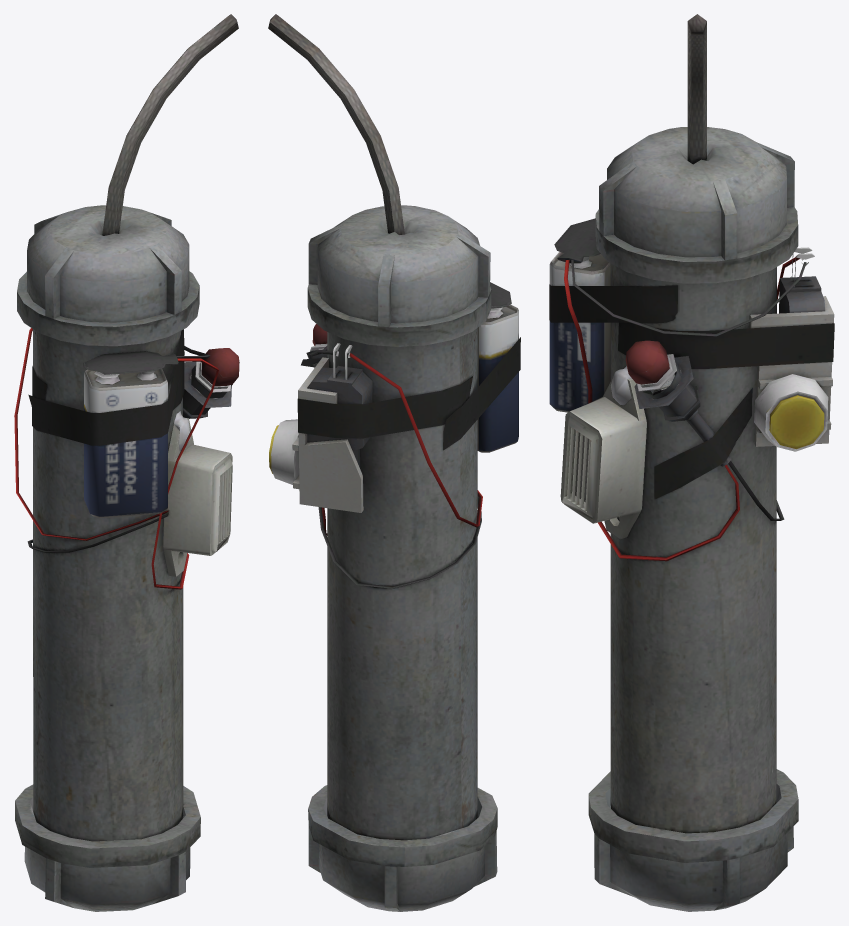
The model's file is l4d-pipe-bomb-left-4-dead.glb.
3 views of the same model, side by side, from view 1: azimuth 30°, elevation 25°; view 2: azimuth 150°, elevation 25°; view 3: azimuth 270°, elevation 25° (orthographic). The views are drawn at different scales.
Bounding box in the file's own units: 3.23 × 12.27 × 3.39.
Materials: 1 (1 with a texture image).
